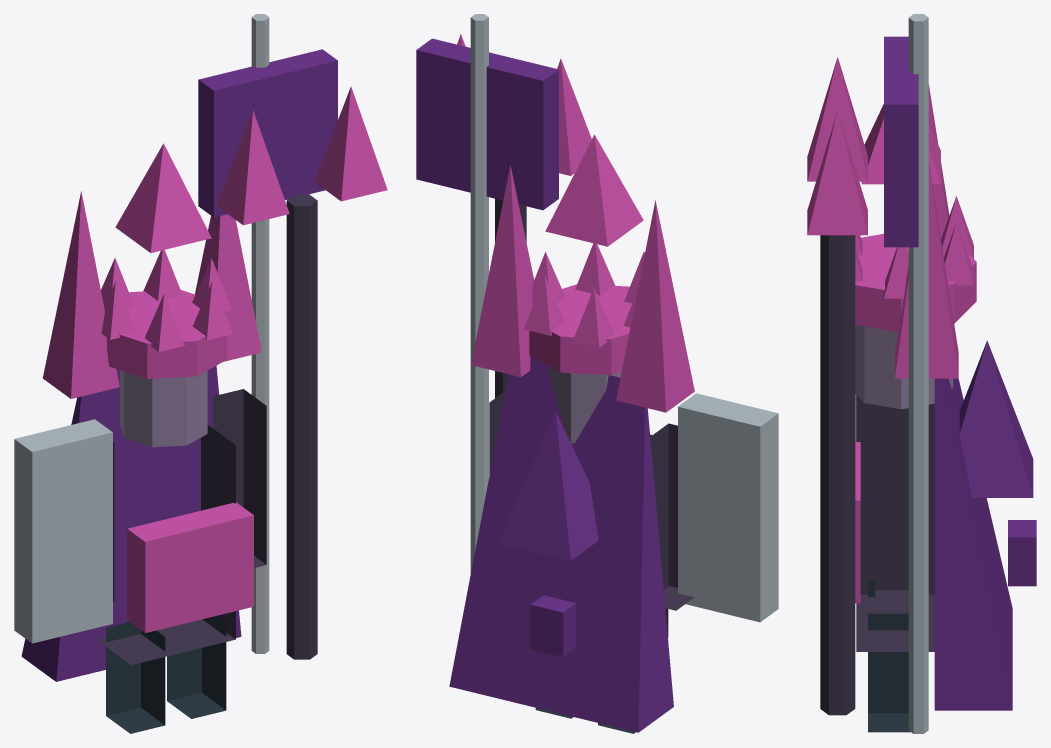
The model's file is converter.obj.
3 views of the same model, side by side, from view 1: azimuth 30°, elevation 25°; view 2: azimuth 150°, elevation 25°; view 3: azimuth 270°, elevation 25° (orthographic). The views are drawn at different scales.
Visible parts, largest first — view 1: hero; view 2: hero; view 3: hero.
Boxes of the visible parts, x1=… form: hero: x1=14, y1=14, x2=387, y2=733; hero: x1=416, y1=14, x2=778, y2=733; hero: x1=807, y1=14, x2=1036, y2=733.
Size of the model in its own units: 1.38 by 2.59 by 0.72.
